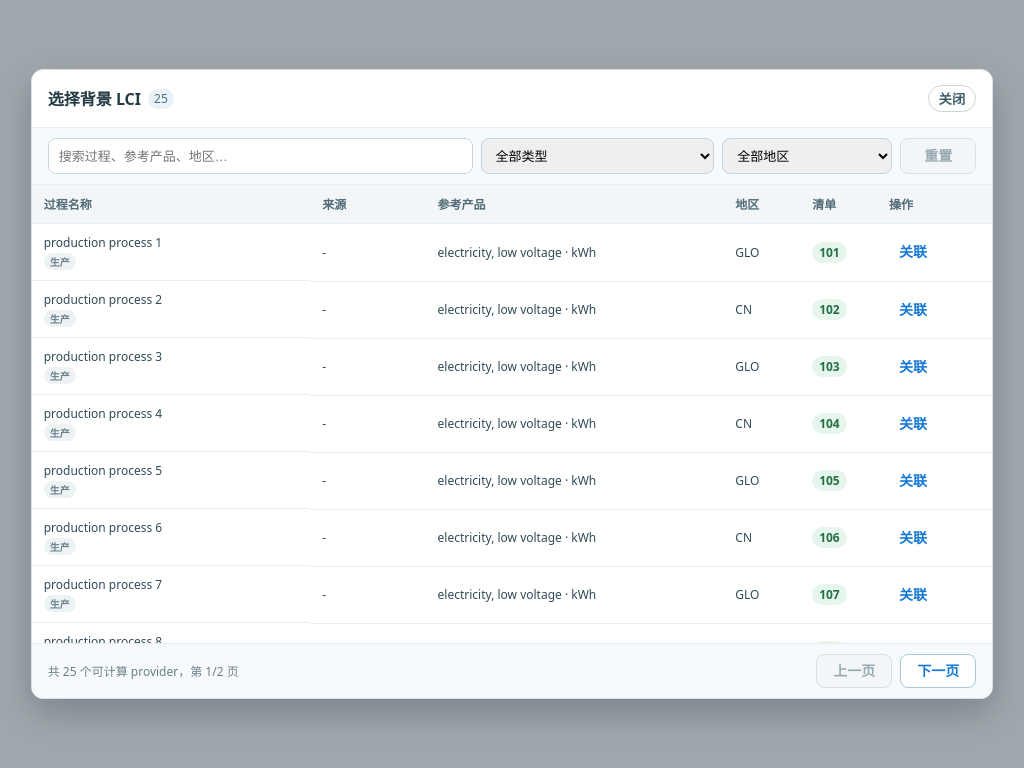
Test: BackgroundLciPickerDialog › paginates large provider lists
Check: the text "production process 1" is shown, box top-left (44, 234), bottom-right (162, 251)
Check: the text "production process 25" is not shown
Click the button "下一页": click(938, 671) top-left (900, 654), bottom-right (976, 688)
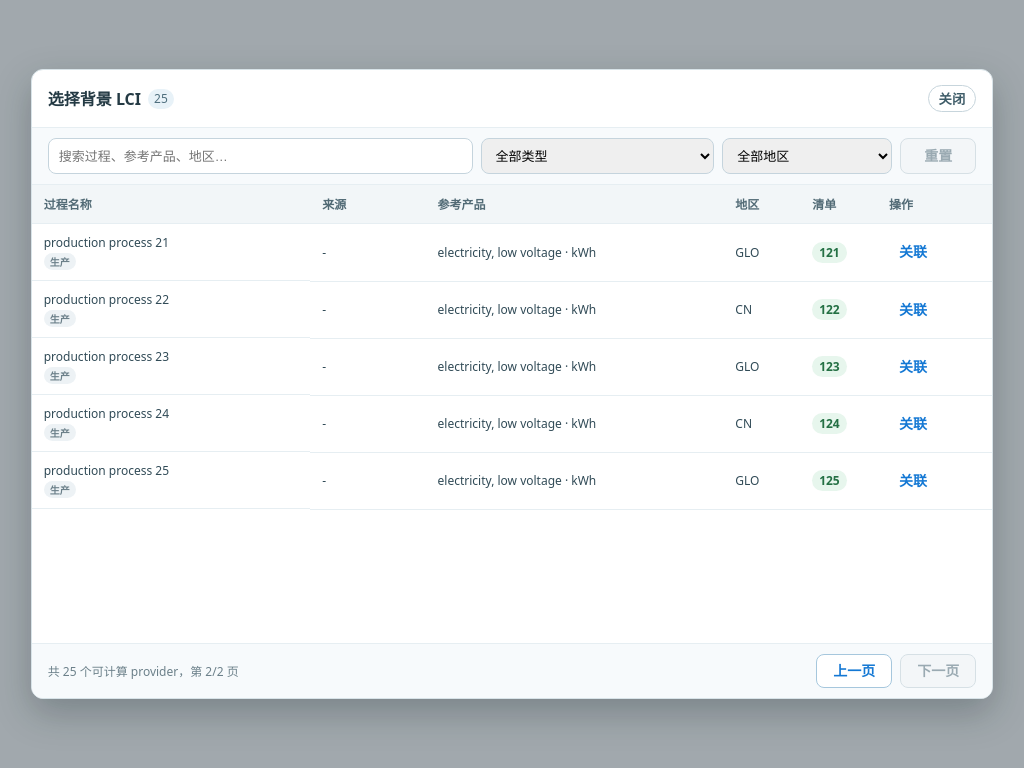
Check: the text "production process 25" is shown, box top-left (44, 462), bottom-right (169, 479)
